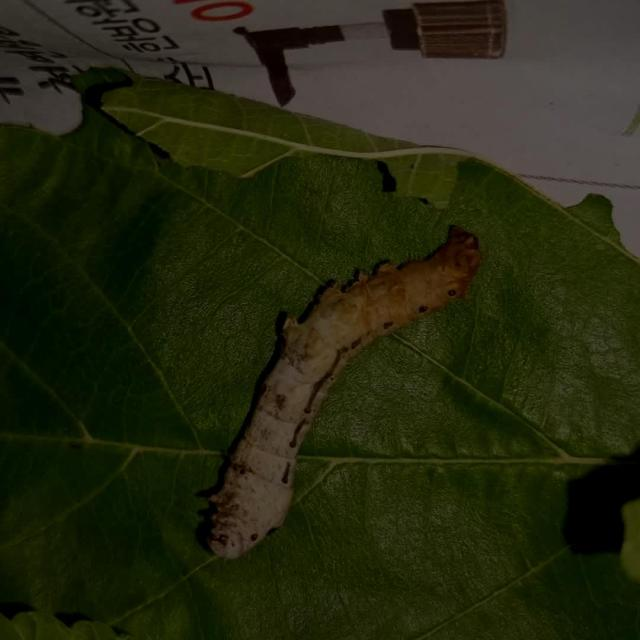Grasserie: (176, 186, 533, 574)
